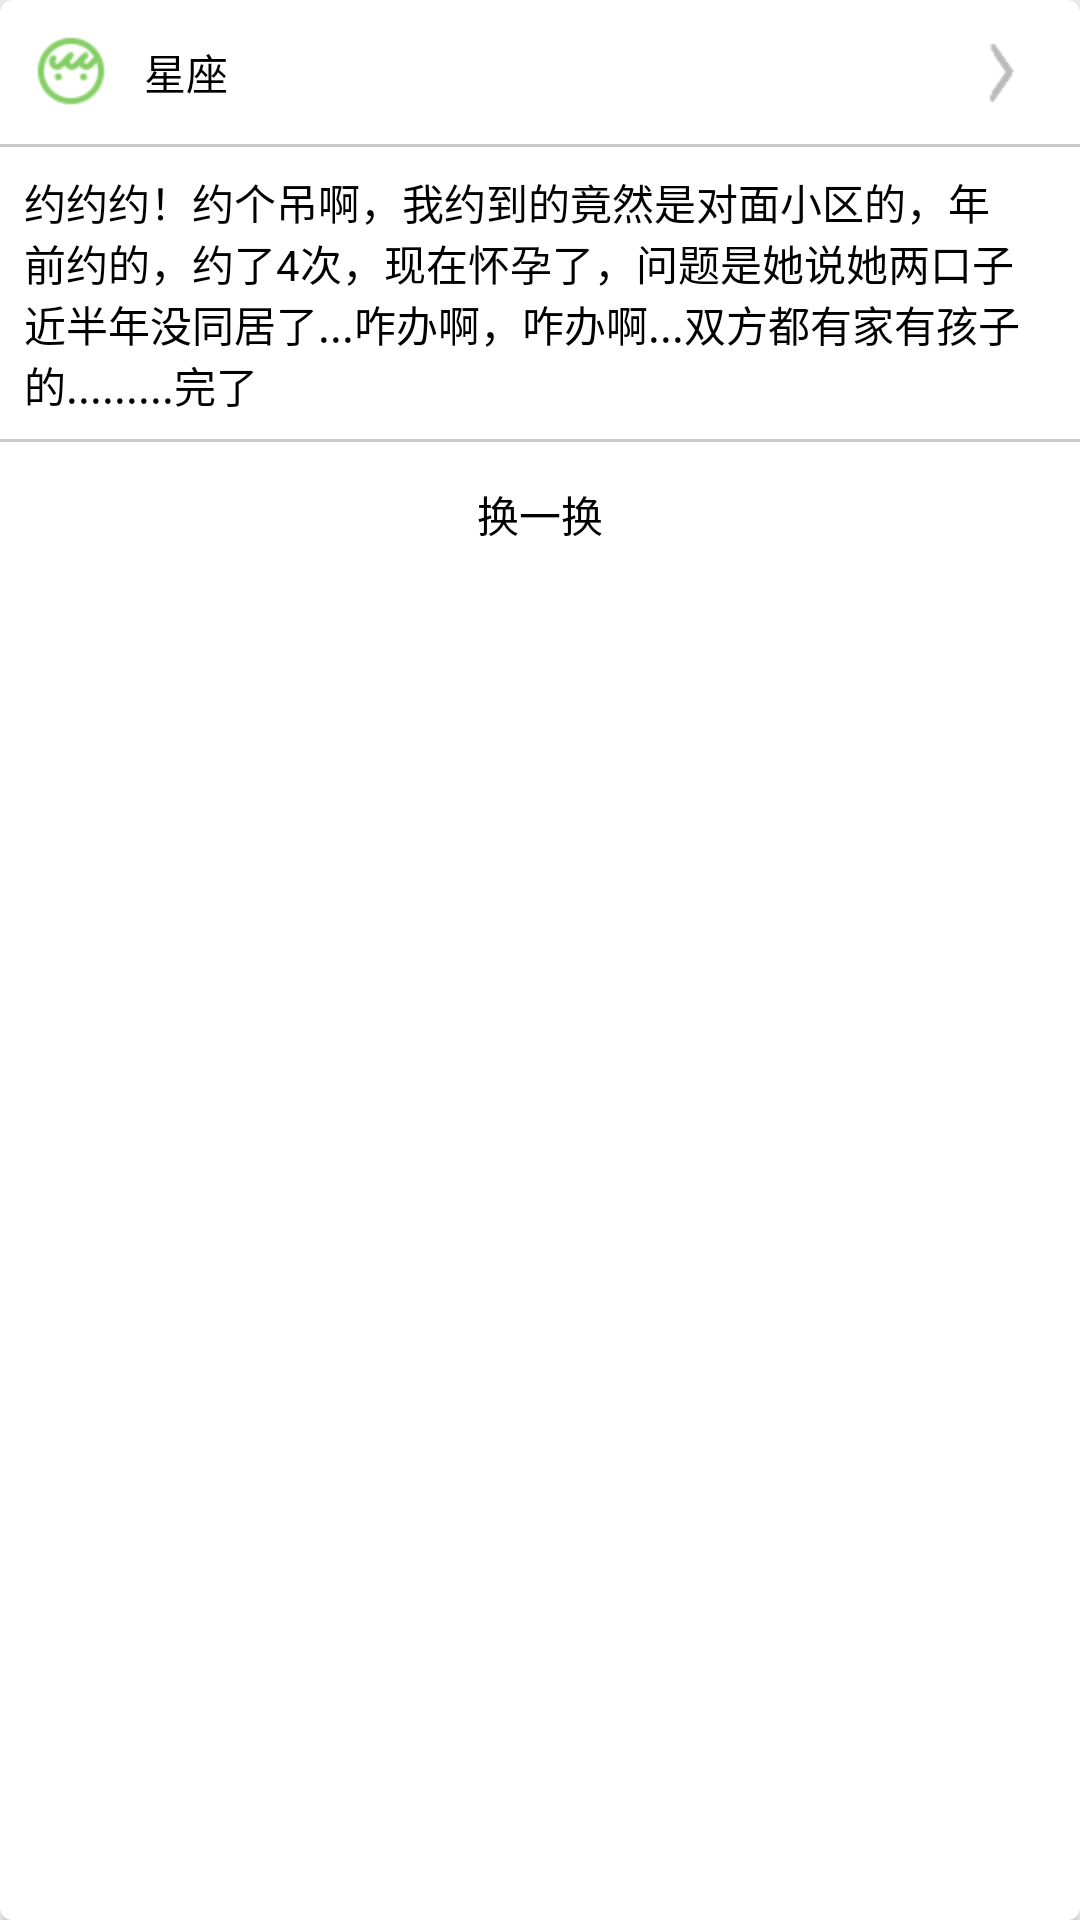

Where icons sit on this 1080px×1920px app screen, as [x1,y1,x2,y2]:
joke: [0,1,105,105]
